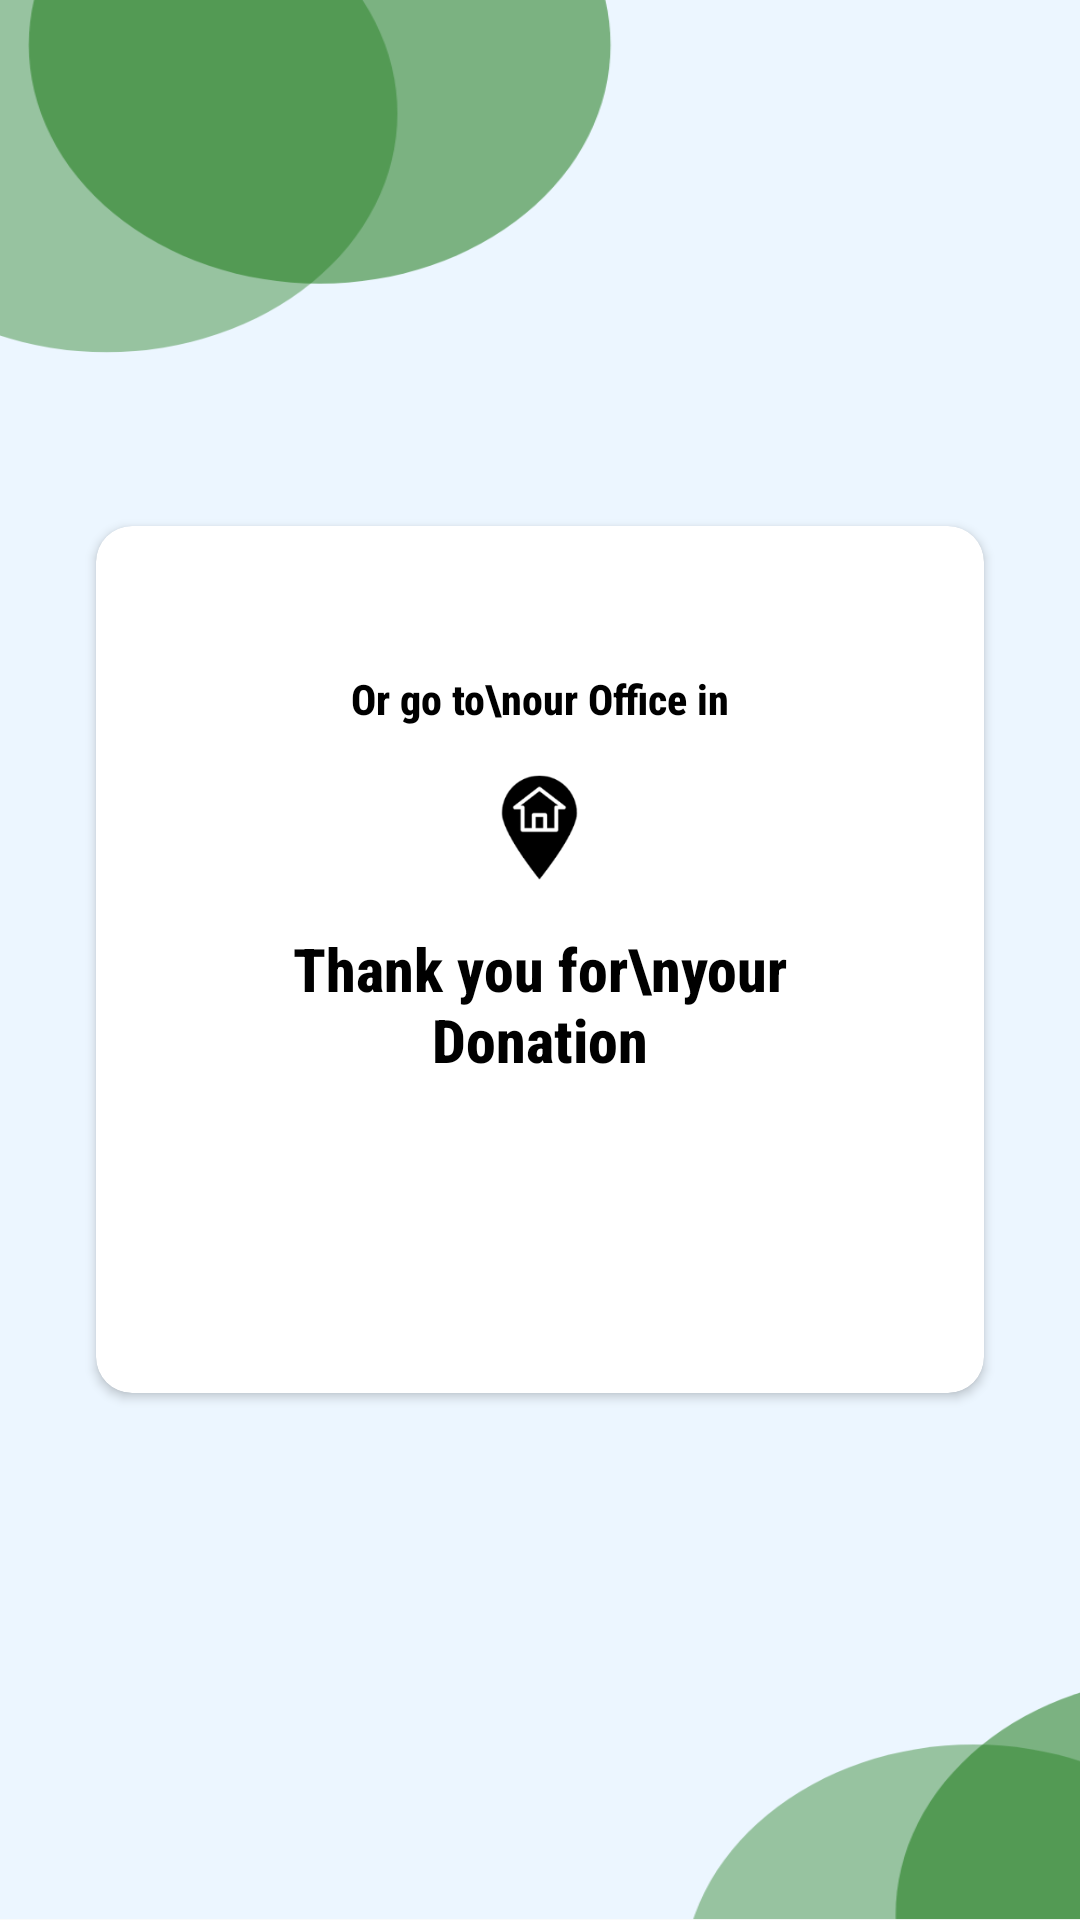

Point at icon controls on the screen. Image size 1080px x 1920px, points as (x,y).
map: (539,827)
